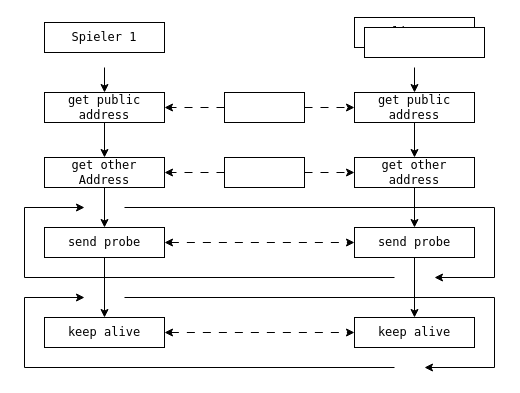
Some shapes in this 520 by 393 pixel diagram are drawn without their labels. Here are the shapes that lost their labels. From the top down, the centre of each, then its label:
(424,42): Spieler n
(264,107): STUN
(264,172): Hub Server
